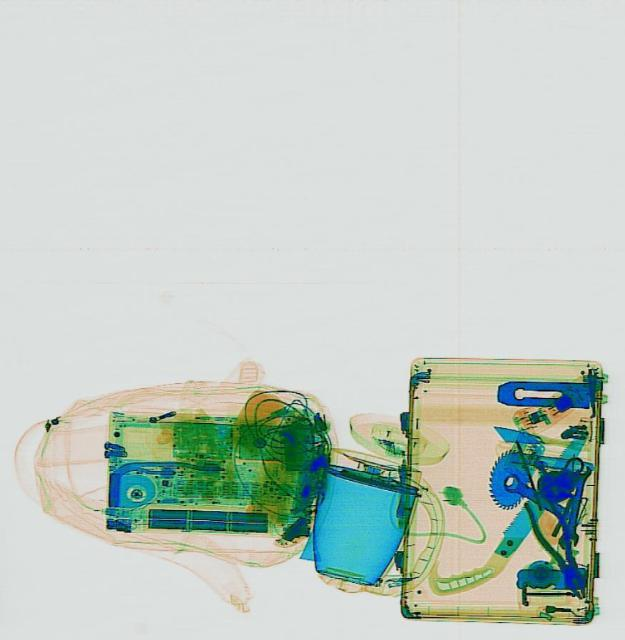Pliers: (518, 489, 595, 605)
Wrench: (498, 468, 583, 530), (556, 462, 593, 550)
